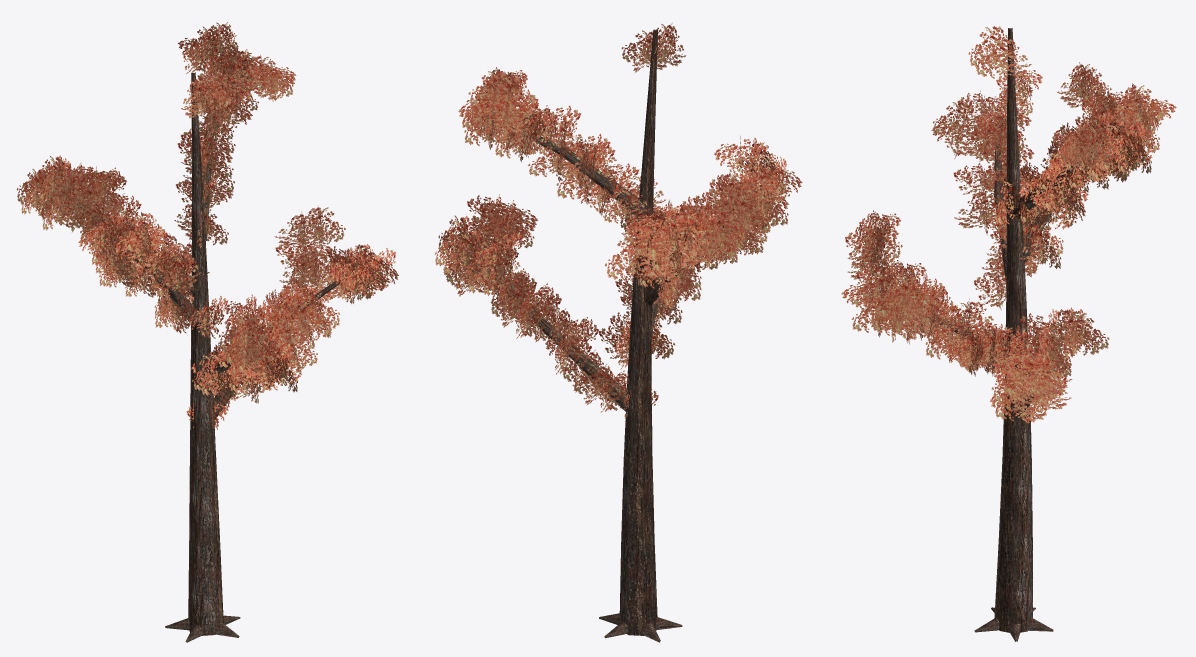
Rendered from tree_3d_06_copper_lod1.glb.
3 renders of one model, left to right at view 1: azimuth 30°, elevation 25°; view 2: azimuth 150°, elevation 25°; view 3: azimuth 270°, elevation 25°, orthographic. The views are drawn at different scales.
Visible parts, largest first — view 1: foliage_cards, wood_geometry; view 2: foliage_cards, wood_geometry; view 3: foliage_cards, wood_geometry.
Boxes of the visible parts, x1,y1,x2,y2 form: foliage_cards: [16, 22, 398, 431]; wood_geometry: [76, 72, 345, 642]; foliage_cards: [435, 22, 802, 423]; wood_geometry: [472, 30, 768, 642]; foliage_cards: [841, 26, 1176, 423]; wood_geometry: [877, 28, 1125, 641].
Bounding box in the file's own units: 5.11 × 8.05 × 4.24.
Materials: 2 (2 with a texture image).
